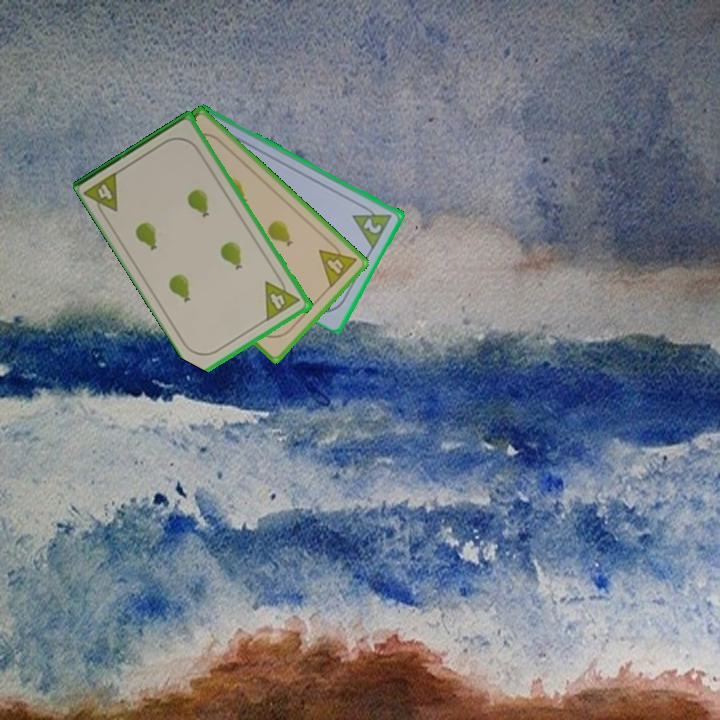2p: (349, 199, 395, 251)
4p: (315, 236, 360, 291), (81, 168, 122, 222), (261, 272, 303, 323)
